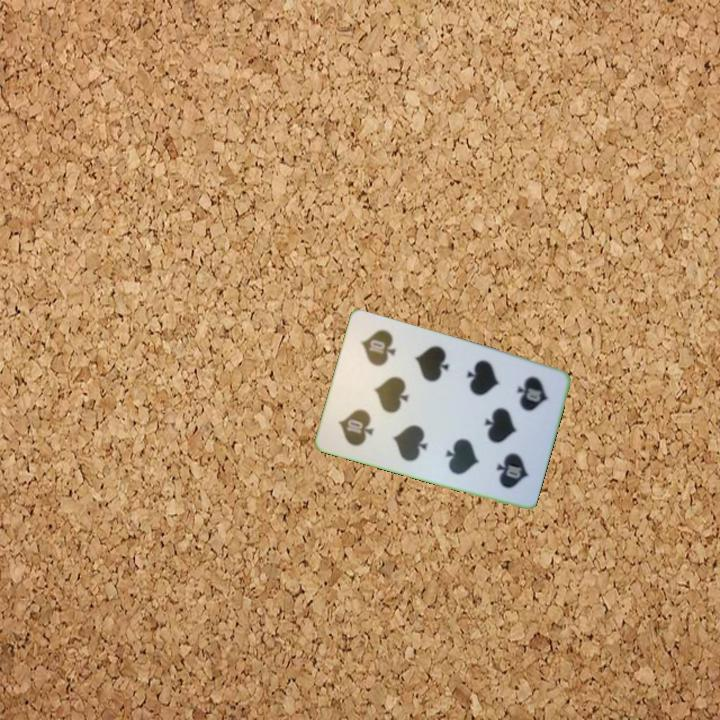s_10.png: (488, 362, 561, 441), (324, 378, 397, 457)
